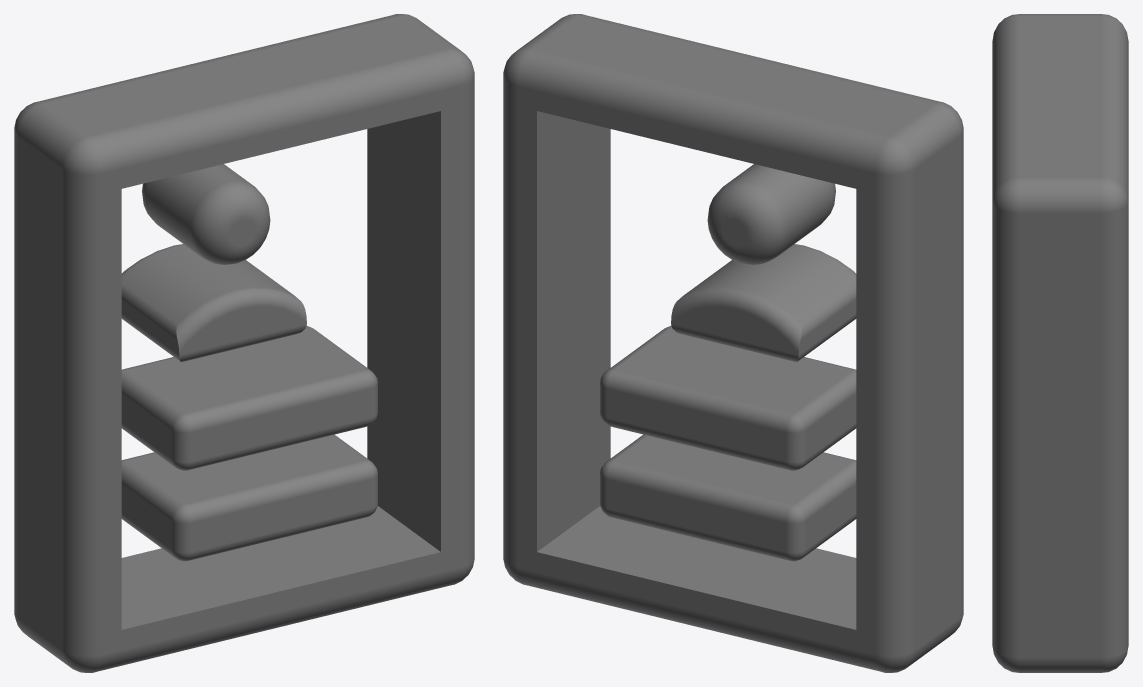
Rendered from resume_3d.glb.
3 renders of one model, left to right at view 1: azimuth 30°, elevation 25°; view 2: azimuth 150°, elevation 25°; view 3: azimuth 270°, elevation 25°, orthographic. The views are drawn at different scales.
Visible parts, largest first — view 1: node_id3; view 2: node_id3; view 3: node_id3.
Part boxes in pixels (x1=…): node_id3: x1=14, y1=14, x2=474, y2=672; node_id3: x1=503, y1=14, x2=963, y2=672; node_id3: x1=992, y1=14, x2=1128, y2=672.
Size of the model in its own units: 0.4096 by 0.512 by 0.128.
Materials: 1 (1 with a texture image).
